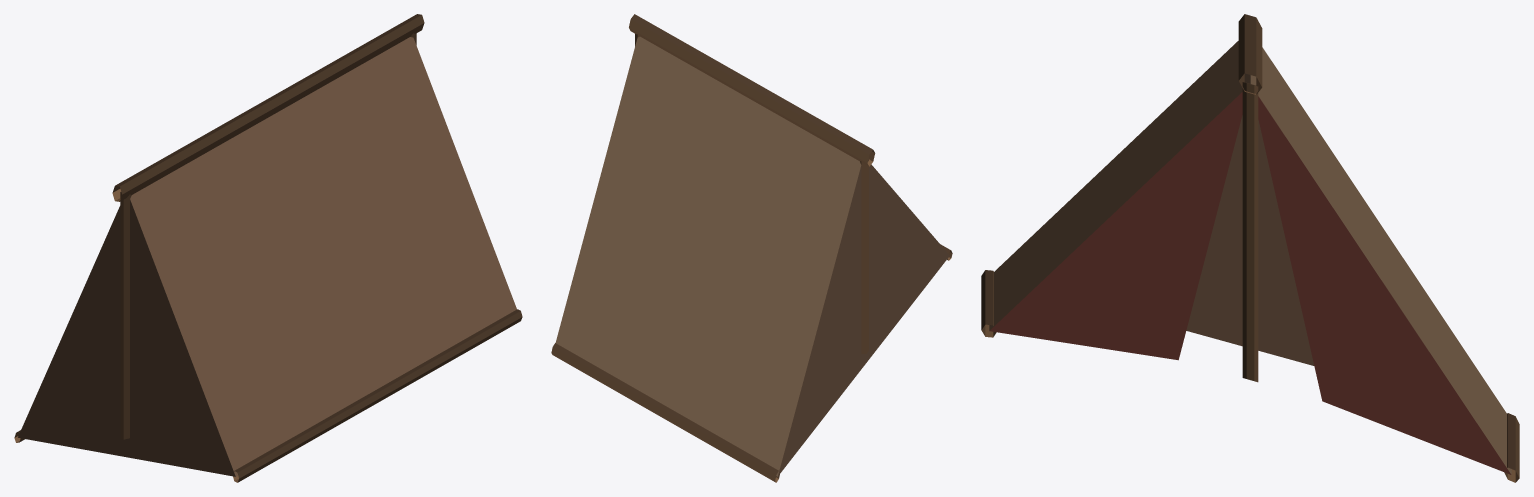
3 renders of one model, left to right at view 1: azimuth 30°, elevation 25°; view 2: azimuth 150°, elevation 25°; view 3: azimuth 270°, elevation 25°, orthographic. The views are drawn at different scales.
Parts seen in each view (by area): view 1: 42680ba8c4160179348a9b6219bd78b952d20c3ef8f7504b9018975f0cc9; view 2: 42680ba8c4160179348a9b6219bd78b952d20c3ef8f7504b9018975f0cc9; view 3: 42680ba8c4160179348a9b6219bd78b952d20c3ef8f7504b9018975f0cc9.
Boxes of the visible parts, x1=… form: 42680ba8c4160179348a9b6219bd78b952d20c3ef8f7504b9018975f0cc9: x1=14, y1=14, x2=522, y2=482; 42680ba8c4160179348a9b6219bd78b952d20c3ef8f7504b9018975f0cc9: x1=551, y1=14, x2=952, y2=482; 42680ba8c4160179348a9b6219bd78b952d20c3ef8f7504b9018975f0cc9: x1=981, y1=14, x2=1519, y2=482.
Size of the model in its own units: 3.2 by 4.45 by 4.12.
2 materials, 1 textured.
